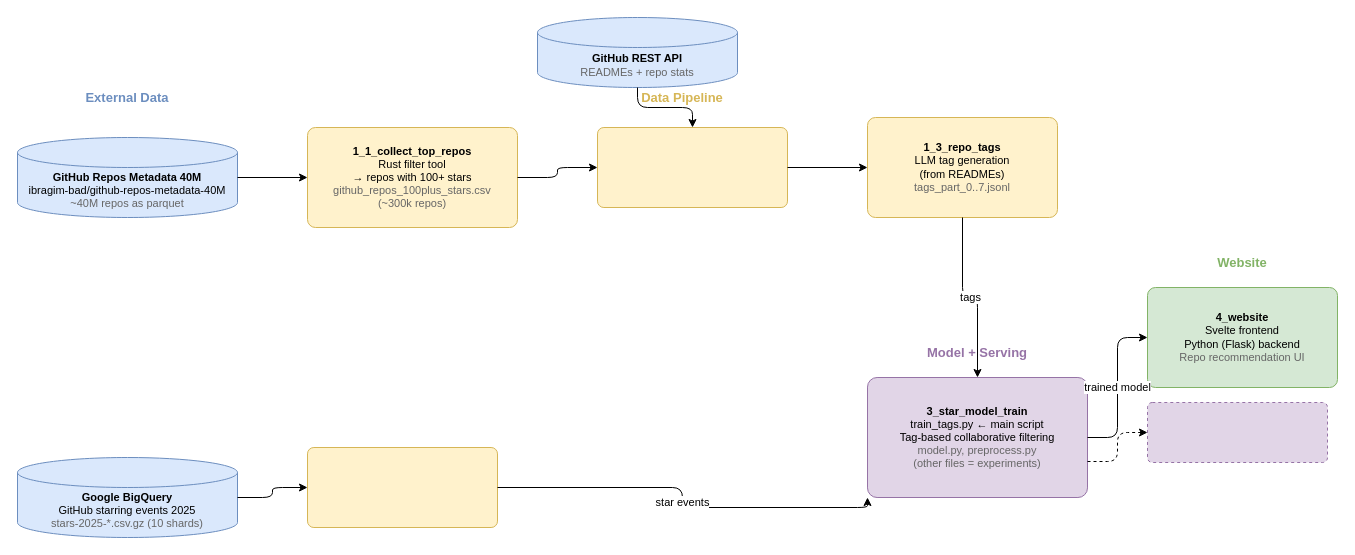
The diagram is 1355 pixels wide and 555 high, and some of its shapes have lost their labels. The centre of each missing label's shape, as x and y in pixels:
1_2_collect_api Python scraper readmes/ + repo_stats.csv: [692,167]
2_big_query Downloaded locally star_events_2025.csv: [402,487]
recommend_tags.py inference / demo: [1237,432]
